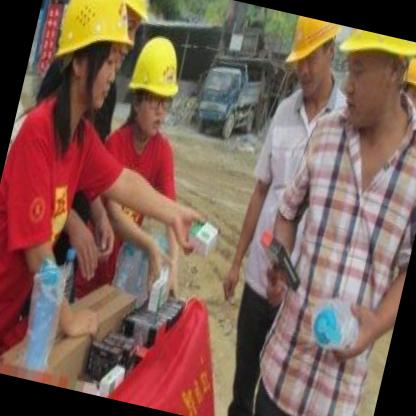helmet: (42, 0, 146, 120), (316, 25, 416, 144), (108, 24, 190, 152), (270, 14, 350, 118), (83, 0, 155, 45), (393, 50, 416, 120)
